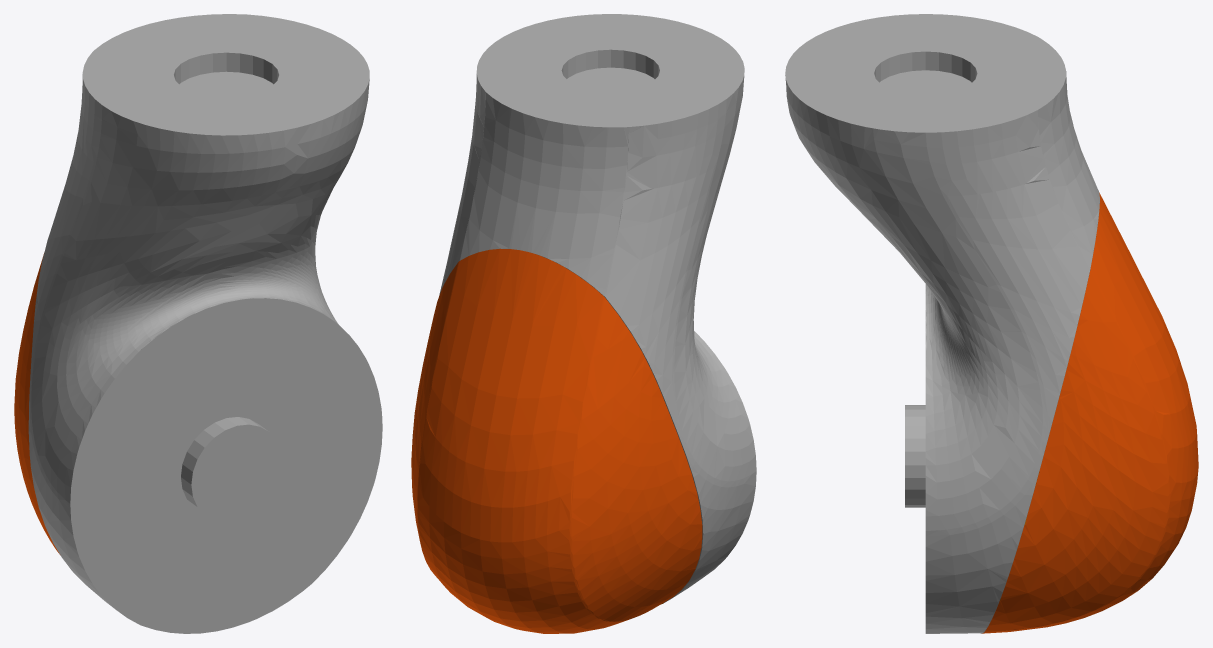
3 renders of one model, left to right at view 1: azimuth 30°, elevation 25°; view 2: azimuth 150°, elevation 25°; view 3: azimuth 270°, elevation 25°, orthographic. The views are drawn at different scales.
Parts seen in each view (by area): view 1: ShapeIndexedFaceSet; view 2: ShapeIndexedFaceSet; view 3: ShapeIndexedFaceSet.
Part boxes in pixels (<box>): ShapeIndexedFaceSet: <box>14,14,382,633</box>; ShapeIndexedFaceSet: <box>411,14,756,633</box>; ShapeIndexedFaceSet: <box>785,14,1198,633</box>.
Bounding box in the file's own units: 0.171 × 0.2001 × 0.2899.
